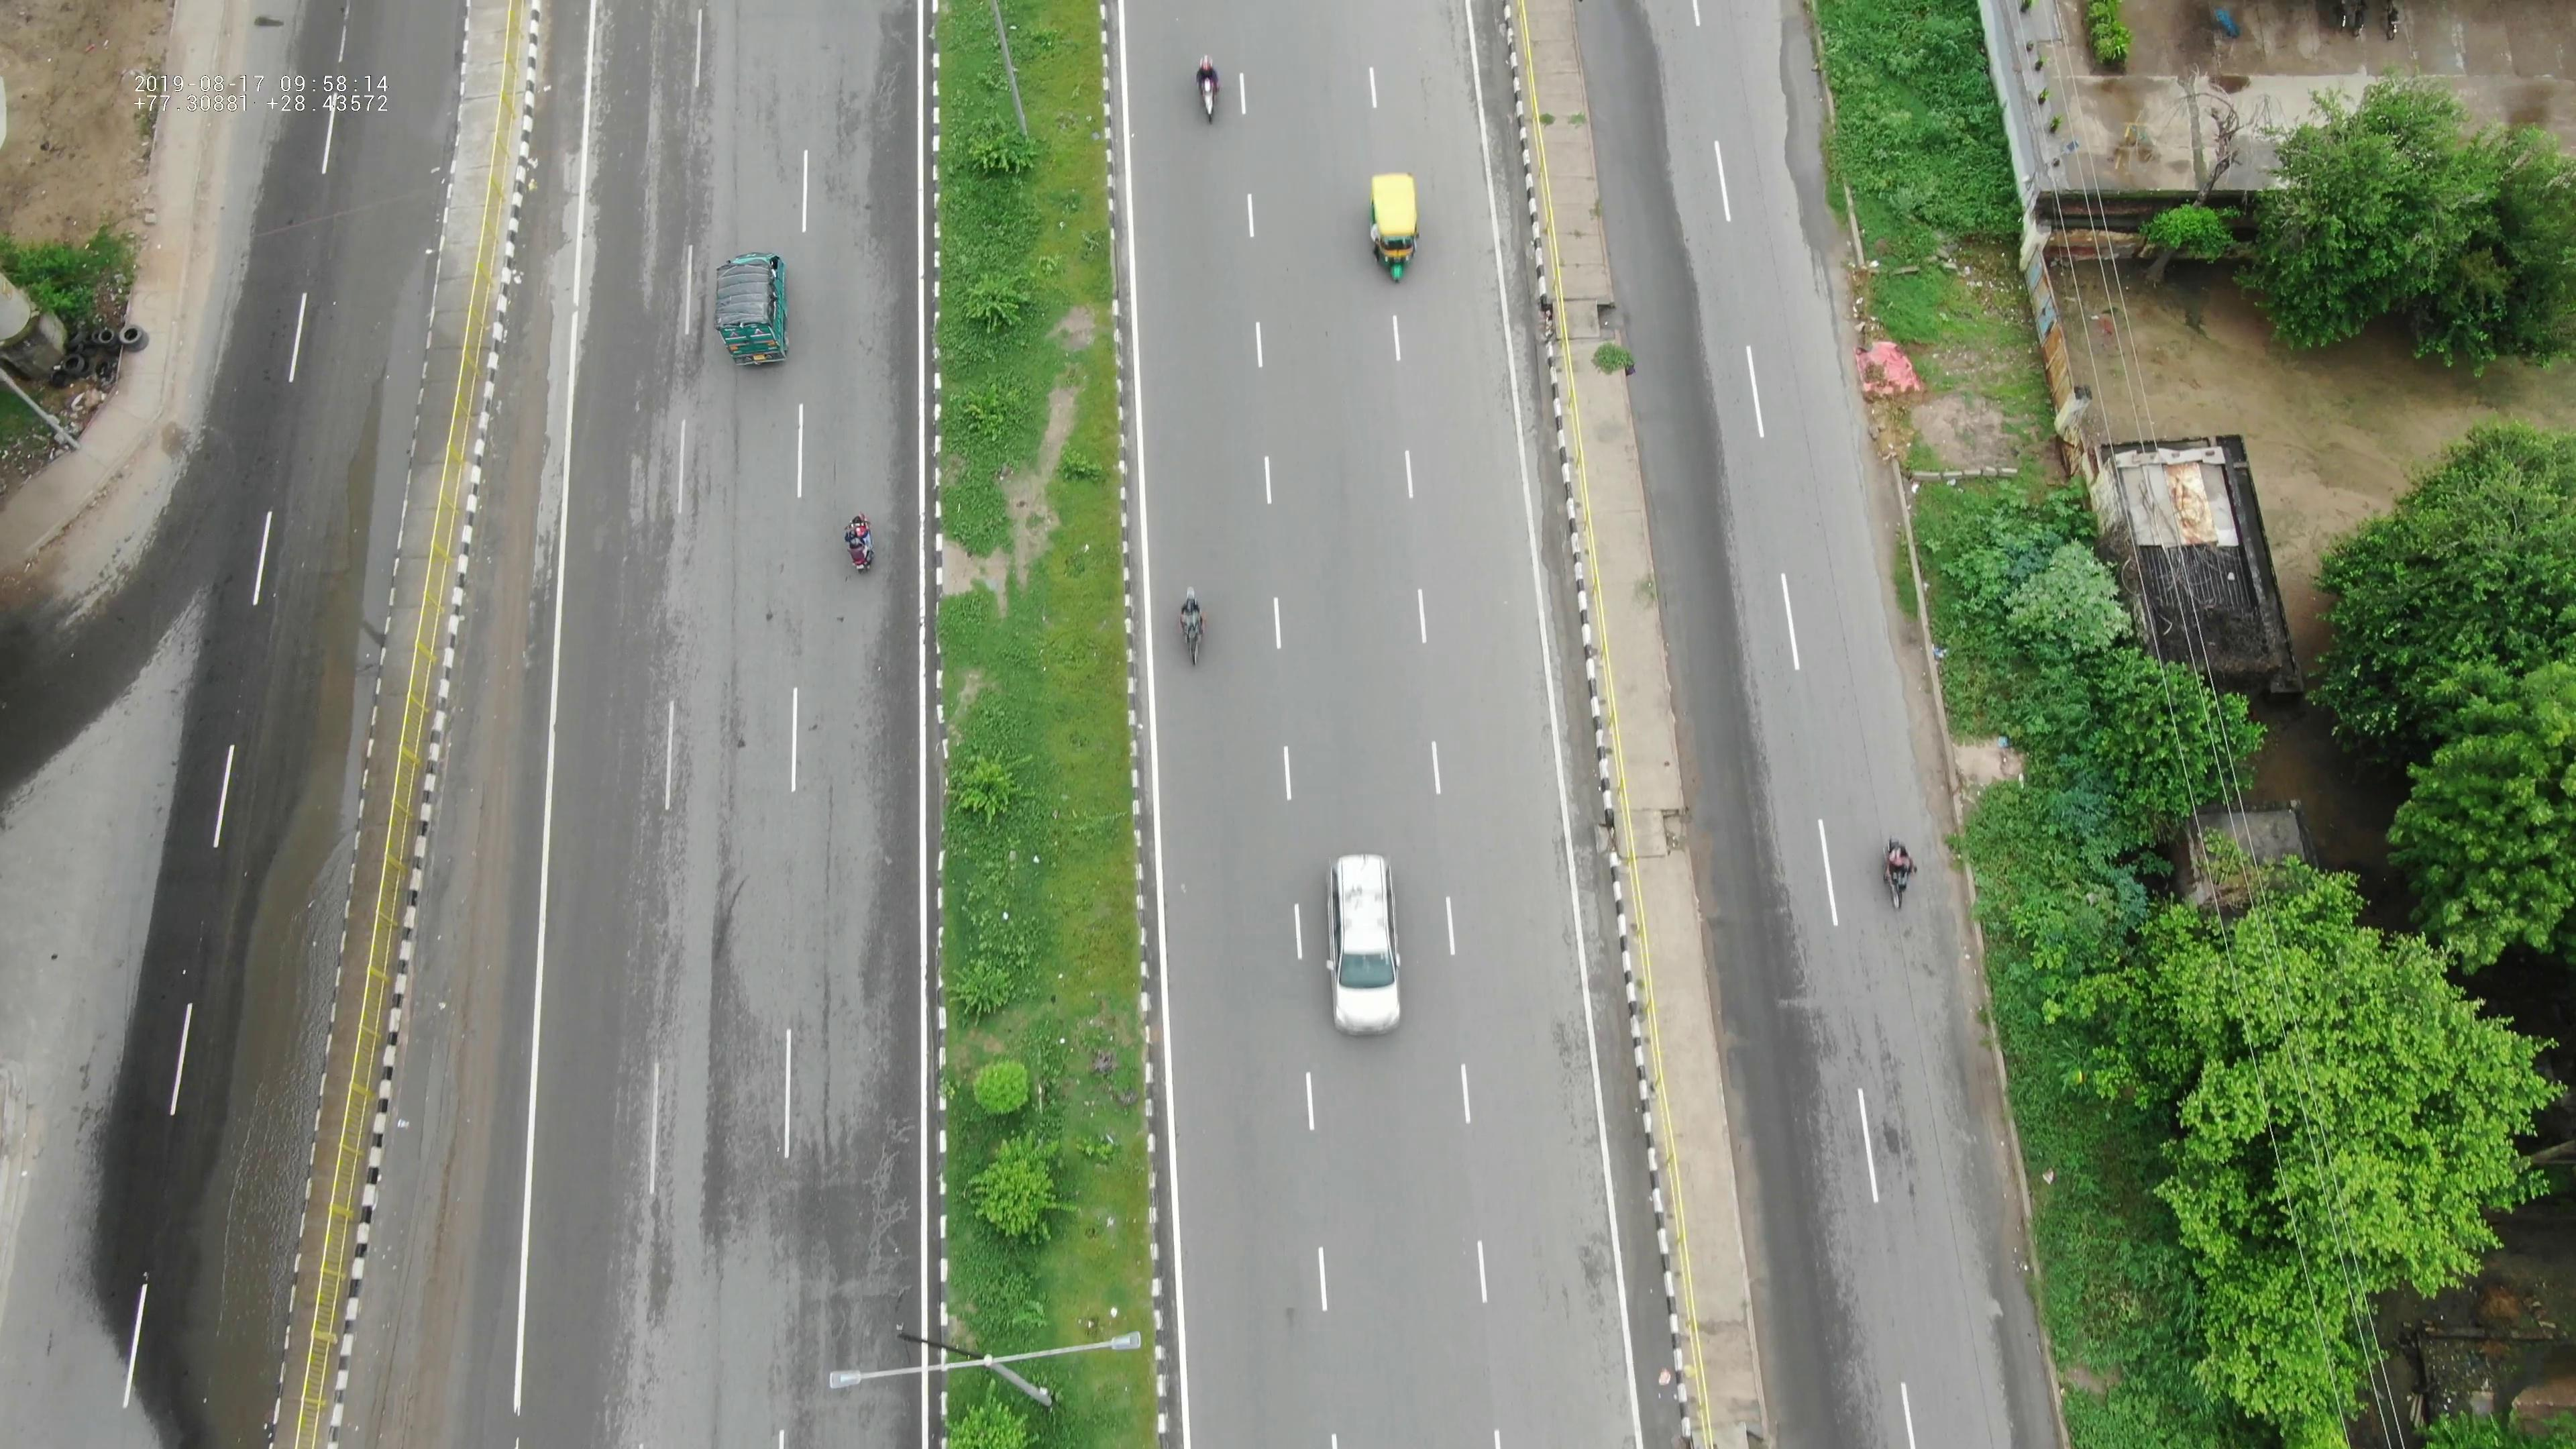Waterlogging: (184, 580, 380, 1194), (1760, 19, 1854, 265)
